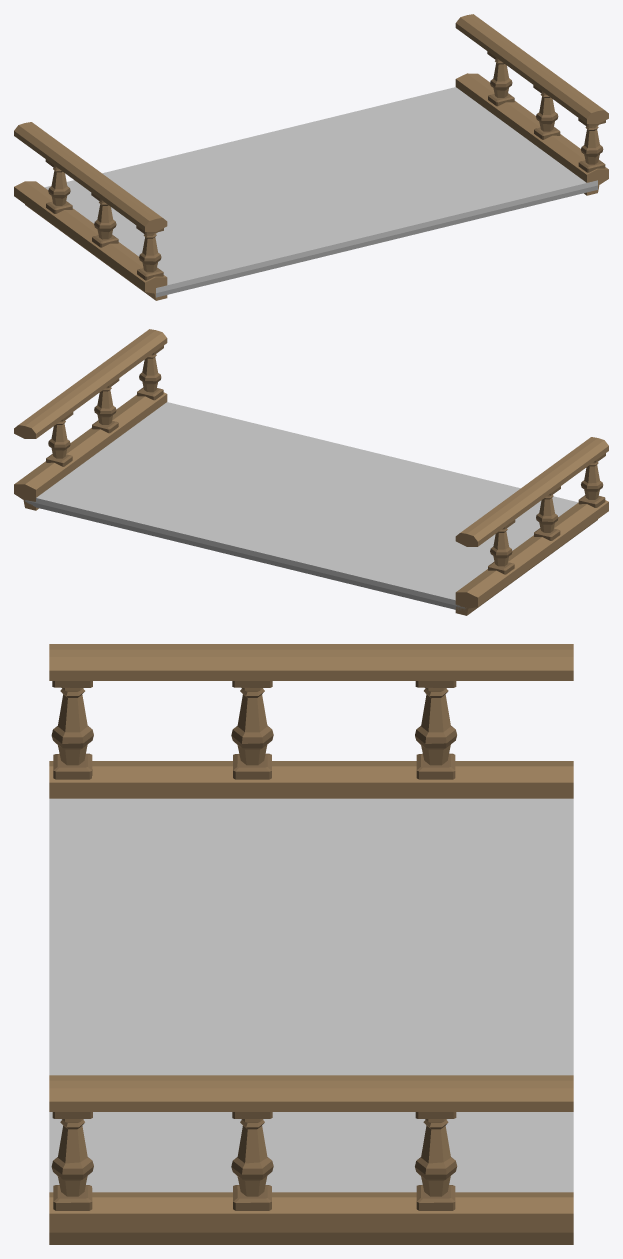
Rendered from SM_Bld_Balcony_Manor_02_Extension_01.fbx.
3 views of the same model, one above another, from view 1: azimuth 30°, elevation 25°; view 2: azimuth 150°, elevation 25°; view 3: azimuth 270°, elevation 25° (orthographic). The views are drawn at different scales.
Parts seen in each view (by area): view 1: SM_Bld_Balcony_Manor_02_Extension_01; view 2: SM_Bld_Balcony_Manor_02_Extension_01; view 3: SM_Bld_Balcony_Manor_02_Extension_01.
Part boxes in pixels (box(x1,y1,x2,y2)): SM_Bld_Balcony_Manor_02_Extension_01: box(14, 14, 608, 300); SM_Bld_Balcony_Manor_02_Extension_01: box(14, 329, 608, 615); SM_Bld_Balcony_Manor_02_Extension_01: box(49, 644, 573, 1244).
Size of the model in its own units: 511 by 86.29 by 250.
